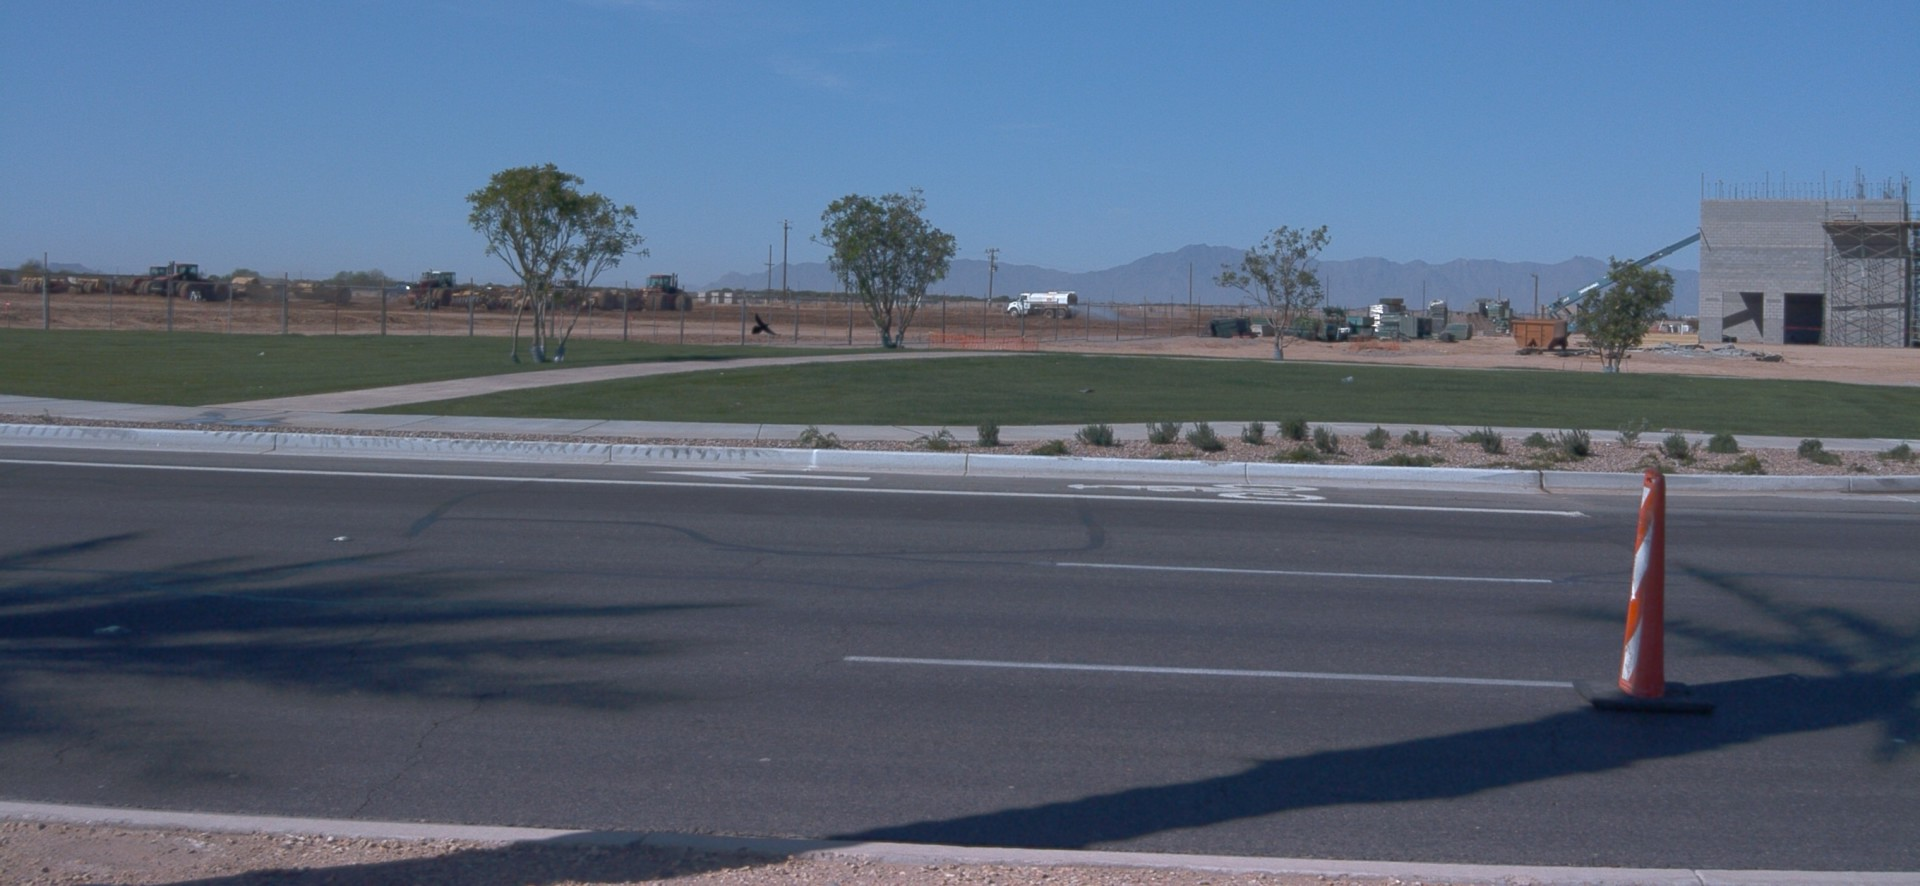TYPE_VEHICLE: (1547, 225, 1697, 346), (1547, 225, 1697, 346), (1547, 225, 1697, 346), (1547, 225, 1697, 346), (147, 263, 230, 303), (147, 263, 230, 303), (147, 263, 230, 303), (147, 263, 230, 303), (402, 270, 467, 315), (402, 270, 467, 315), (402, 270, 467, 315), (402, 270, 467, 315), (628, 273, 692, 315), (628, 273, 692, 315), (628, 273, 692, 315), (628, 273, 692, 315), (1007, 289, 1079, 321), (1007, 289, 1079, 321), (1007, 289, 1079, 321), (1007, 289, 1079, 321), (449, 280, 514, 311), (449, 280, 514, 311), (449, 280, 514, 311), (449, 280, 514, 311), (513, 292, 600, 313), (513, 292, 600, 313), (513, 292, 600, 313), (513, 292, 600, 313), (125, 266, 170, 297), (125, 266, 170, 297), (125, 266, 170, 297), (125, 266, 170, 297), (18, 278, 104, 294), (18, 278, 104, 294), (18, 278, 104, 294), (18, 278, 104, 294), (383, 288, 410, 301), (383, 288, 410, 301), (383, 288, 410, 301), (383, 288, 410, 301)
